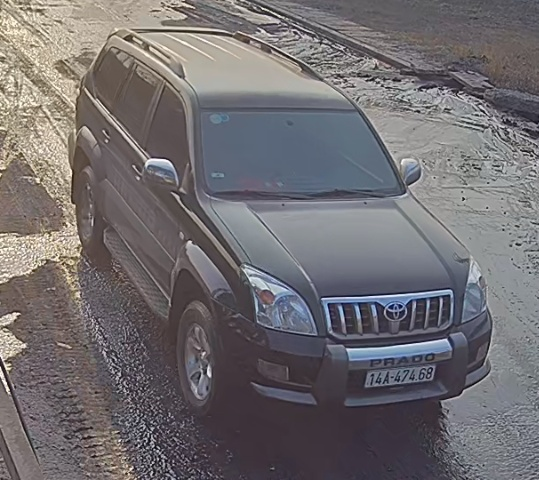vehicle plate: (358, 364, 434, 385)
